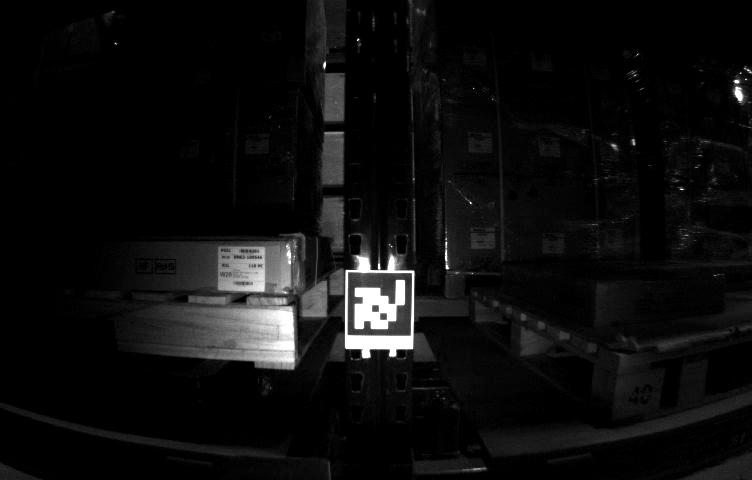True Barcode: (218, 246, 264, 288)
